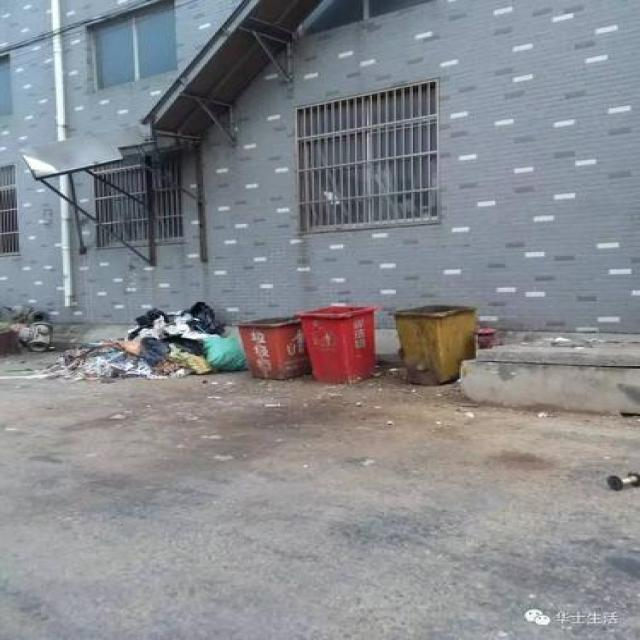garbage: (28, 302, 248, 379)
garbage_bin: (389, 305, 476, 385), (295, 304, 377, 382), (230, 315, 306, 377)
